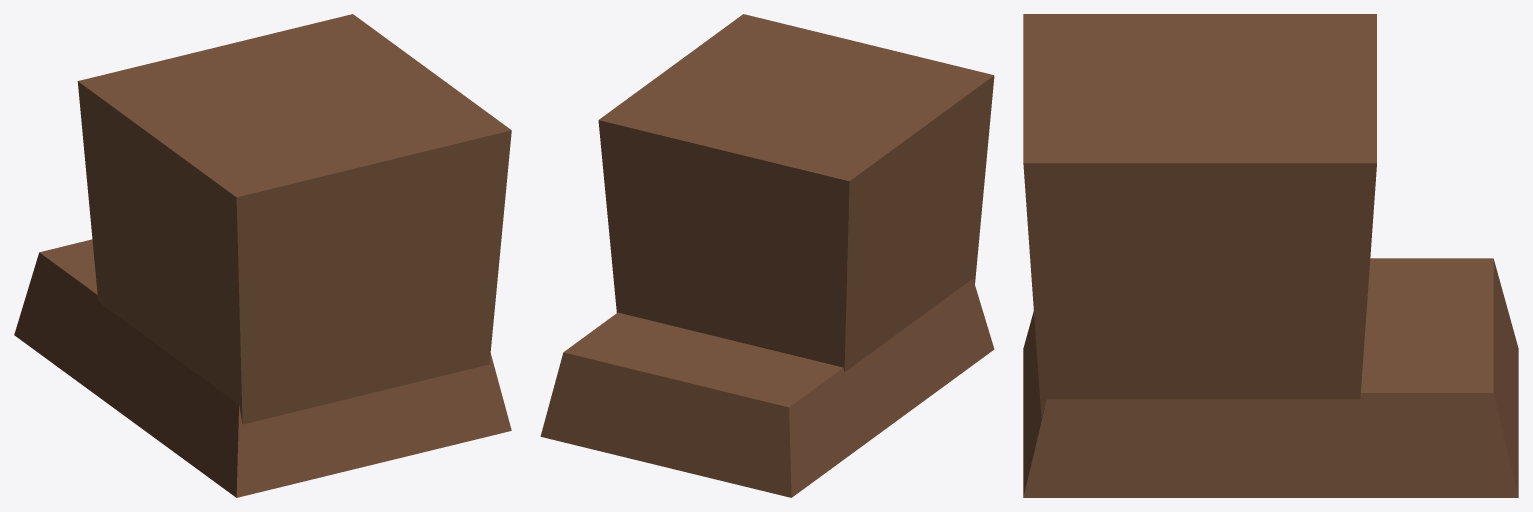
File: animal_megavole_leg.obj
3 views of the same model, side by side, from view 1: azimuth 30°, elevation 25°; view 2: azimuth 150°, elevation 25°; view 3: azimuth 270°, elevation 25° (orthographic). The views are drawn at different scales.
Parts seen in each view (by area): view 1: animal_megavole_leg; view 2: animal_megavole_leg; view 3: animal_megavole_leg.
Part boxes in pixels (x1=…): animal_megavole_leg: x1=14, y1=14, x2=511, y2=497; animal_megavole_leg: x1=540, y1=14, x2=994, y2=497; animal_megavole_leg: x1=1023, y1=14, x2=1518, y2=497.
Bounding box in the file's own units: 0.115 × 0.12 × 0.161.
